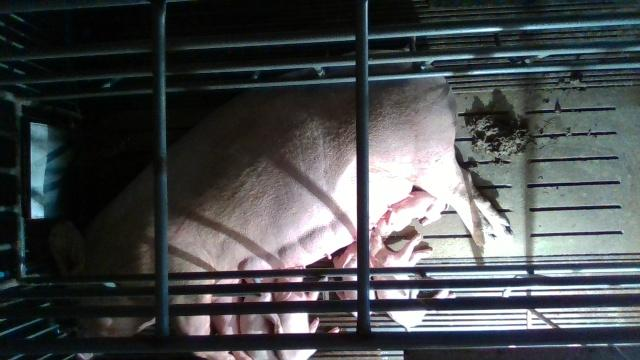piglet: (370, 233, 457, 333), (271, 268, 340, 360), (240, 278, 284, 360), (373, 192, 450, 237), (335, 242, 376, 315)
sow-sleep-lactate: (41, 50, 513, 358)
